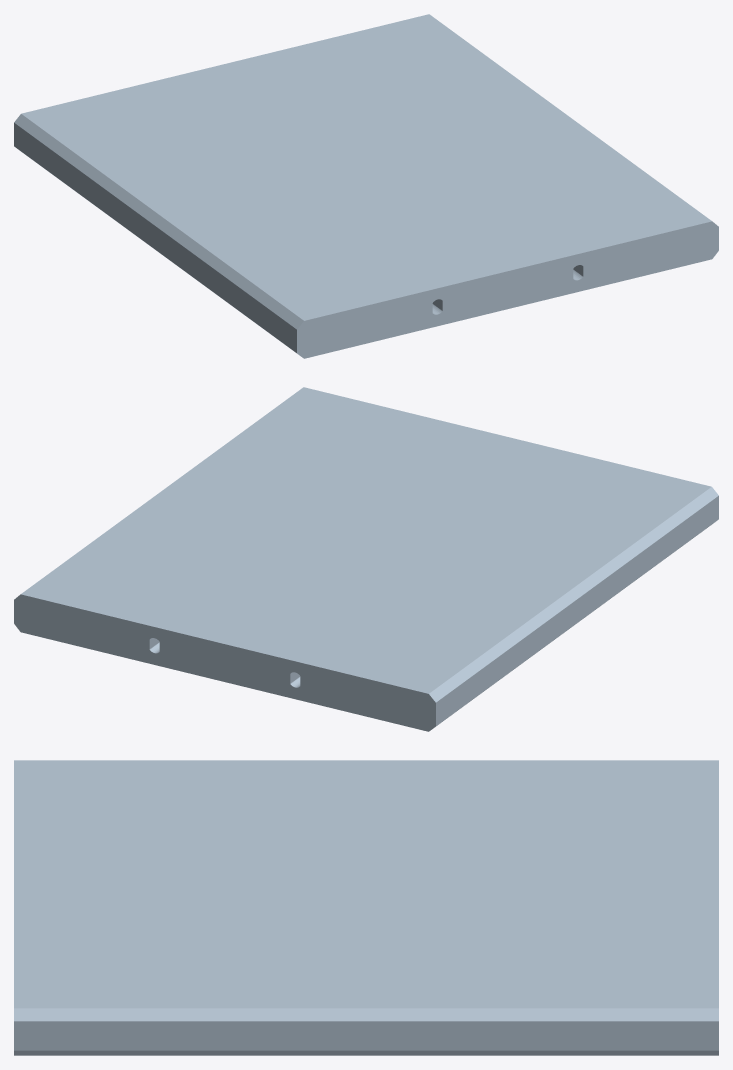
Rendered from keyboard-riser-e87a9bf0.glb.
3 views of the same model, one above another, from view 1: azimuth 30°, elevation 25°; view 2: azimuth 150°, elevation 25°; view 3: azimuth 270°, elevation 25° (orthographic). The views are drawn at different scales.
Parts seen in each view (by area): view 1: W-Holes; view 2: W-Holes; view 3: W-Holes.
Boxes of the visible parts, x1,y1,x2,y2 form: W-Holes: (14, 14, 718, 358); W-Holes: (14, 387, 718, 731); W-Holes: (14, 760, 718, 1055).
Size of the model in its own units: 2.15 by 0.1849 by 2.5.
